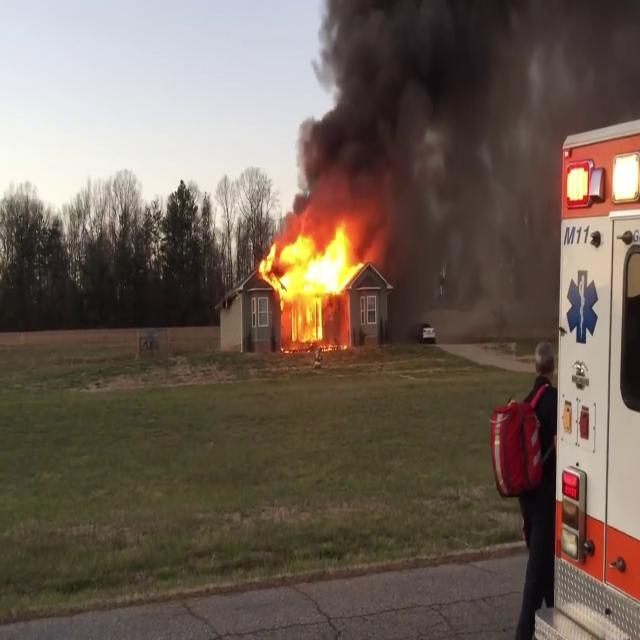Fire: (260, 218, 368, 344)
Smoke: (287, 0, 539, 238)
